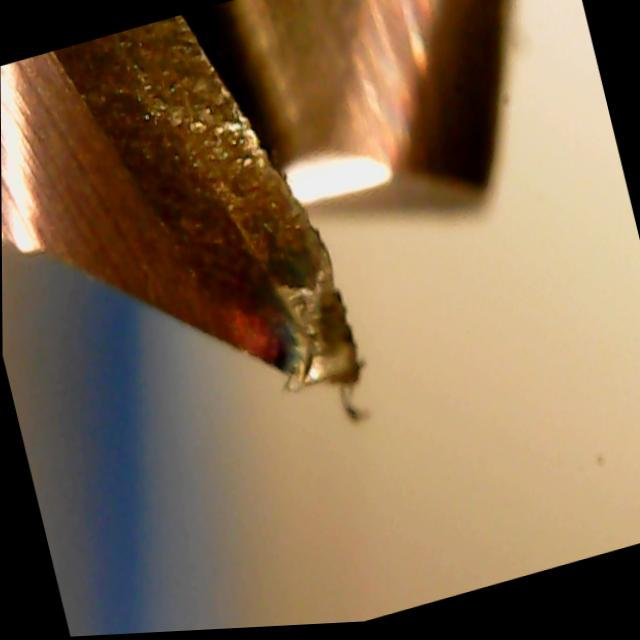Tool-wear-class-2: (143, 32, 389, 442)
